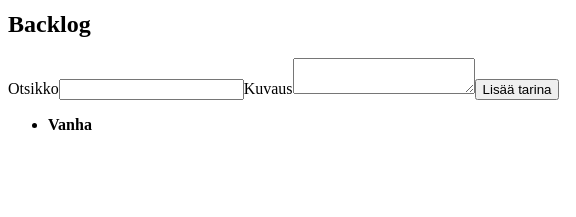
Test: BacklogView › tallentaa uuden tarinan ja näyttää sen listan ensimmäisenä
Expected: the text "Vanha" is shown, [48,116,92,133]
Type "Uusi" into the field labelled "Otsikko" at (151, 89), box [59,79,244,100]
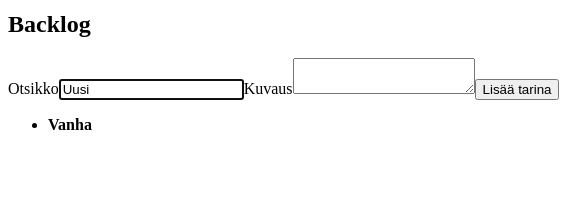
Type "Kuvaus" into the text box labelled "Kuvaus" at (384, 76), box [293,58,475,94]
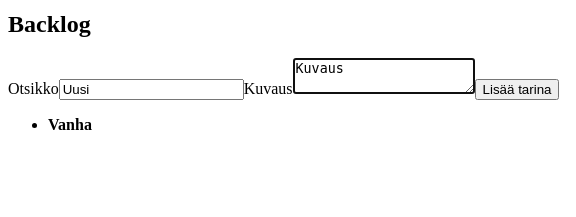
Click the button "Lisää tarina" at (517, 89), box [475,79,560,100]
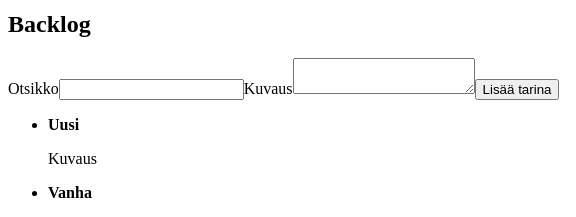
Now the number of list items is 2, box [48,116,97,167]; [48,184,92,201]
Now the list item "Uusi Kuvaus" is shown, box [48,116,97,167]
Now the field labelled "Otsikko" is empty, box [59,79,244,100]
